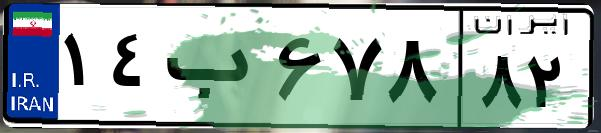1: (57, 26, 110, 100)
2: (525, 38, 570, 115)
4: (110, 28, 158, 98)
6: (270, 28, 330, 110)
7: (330, 28, 385, 110)
8: (385, 28, 445, 110), (475, 38, 525, 113)
ب: (158, 20, 270, 120)
